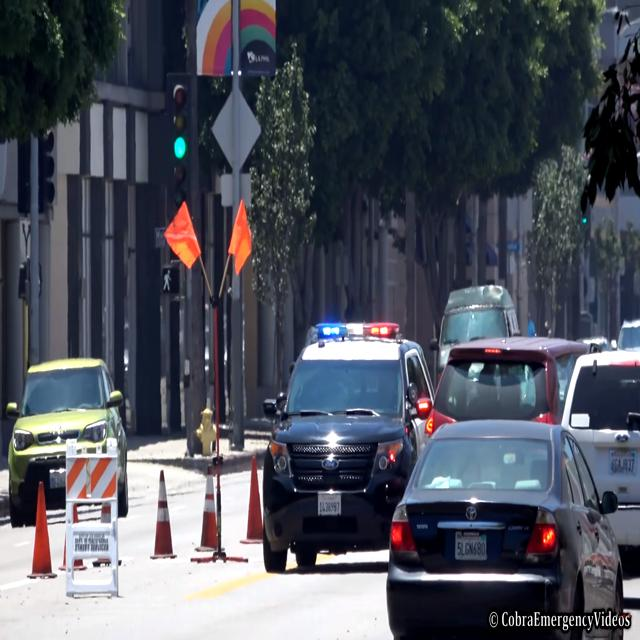emergency-vehicles: (247, 308, 450, 588)
